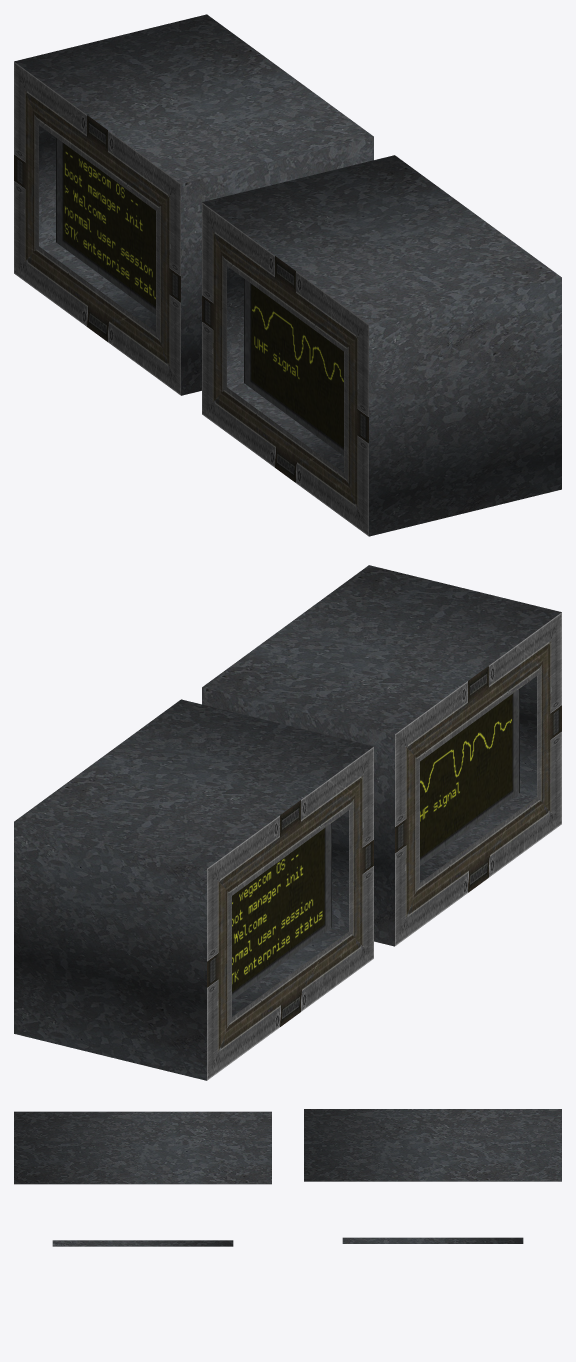
Rendered from terminal_1.glb.
3 renders of one model, top to bottom at view 1: azimuth 30°, elevation 25°; view 2: azimuth 150°, elevation 25°; view 3: azimuth 270°, elevation 25°, orthographic. The views are drawn at different scales.
Visible parts, largest first — view 1: trak3_base1.jpg__, grate1a.jpg__, trak3_screen.jpg__, terminal_text.png__, terminal_graphic.png__; view 2: trak3_base1.jpg__, grate1a.jpg__, trak3_screen.jpg__, terminal_text.png__, terminal_graphic.png__; view 3: trak3_base1.jpg__.
Boxes of the visible parts, left/top/right/bottom form: trak3_base1.jpg__: left=14, top=14, right=561, bottom=536; grate1a.jpg__: left=14, top=61, right=368, bottom=536; trak3_screen.jpg__: left=56, top=138, right=343, bottom=455; terminal_text.png__: left=64, top=152, right=155, bottom=299; terminal_graphic.png__: left=252, top=305, right=343, bottom=382; trak3_base1.jpg__: left=14, top=565, right=561, bottom=1080; grate1a.jpg__: left=207, top=612, right=561, bottom=1080; trak3_screen.jpg__: left=232, top=688, right=519, bottom=1000; terminal_text.png__: left=232, top=854, right=322, bottom=983; terminal_graphic.png__: left=420, top=719, right=511, bottom=821; trak3_base1.jpg__: left=14, top=1109, right=561, bottom=1246.
Bounding box in the file's own units: 4.45 × 4.74 × 14.16.
5 materials, 5 textured.
